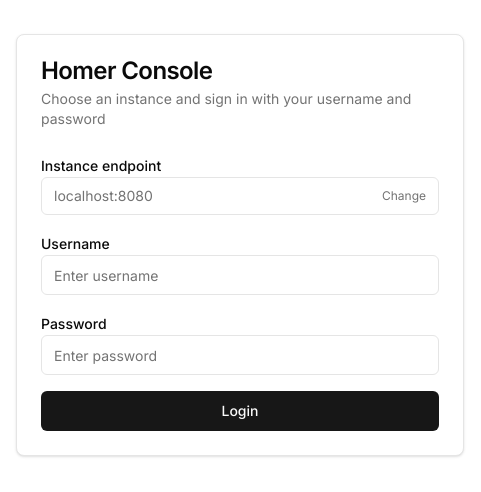
Test: LoginPage › shows an invalid-credentials message when login rejects the password
This screenshot has width=481, height=492.
Type "alice" into the field labelled "Username" at (240, 275), box [41,255,439,295]
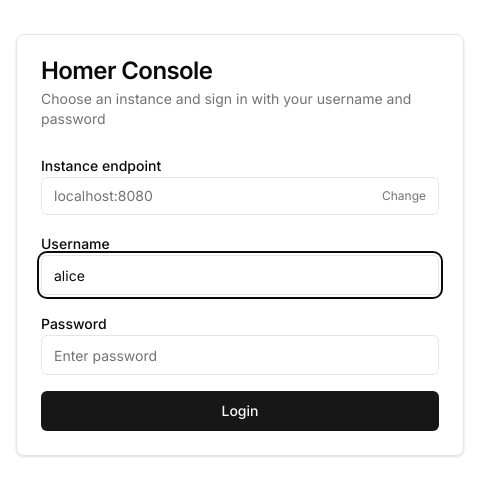
Type "wrong" into the password field labelled "Password" at (240, 355), box [41,335,439,375]
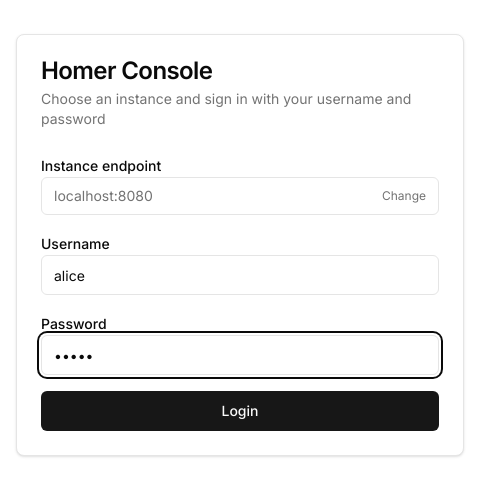
Click the button "Login" at (240, 411), box [41,391,439,431]
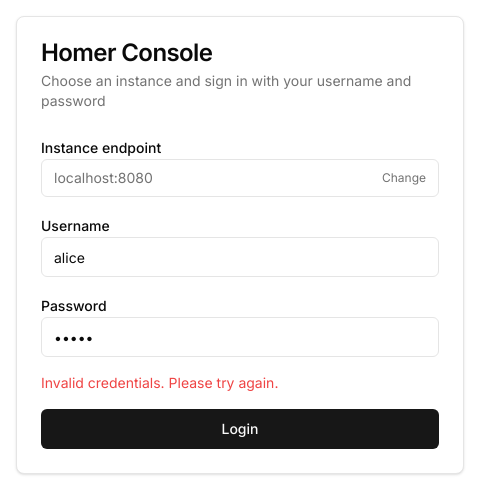
Check: the text "Invalid credentials. Please try again." is shown, box [41,374,278,391]
